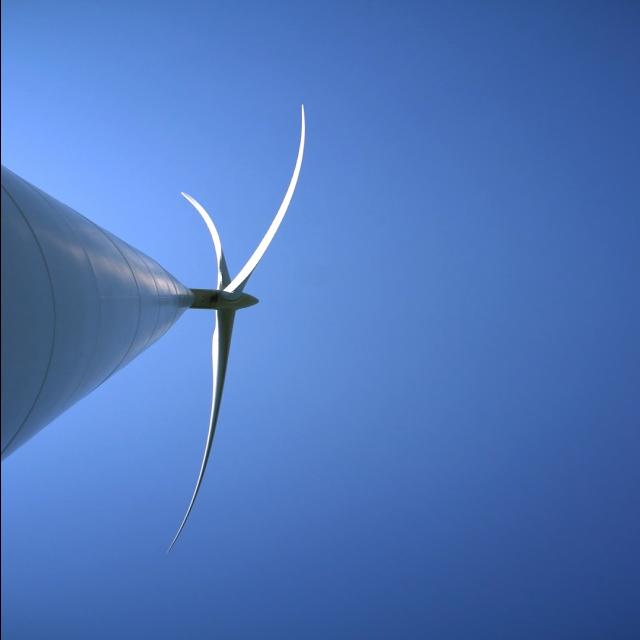blade 1: (153, 172, 228, 276)
blade 2: (246, 99, 308, 260)
blade 3: (156, 350, 256, 542)
